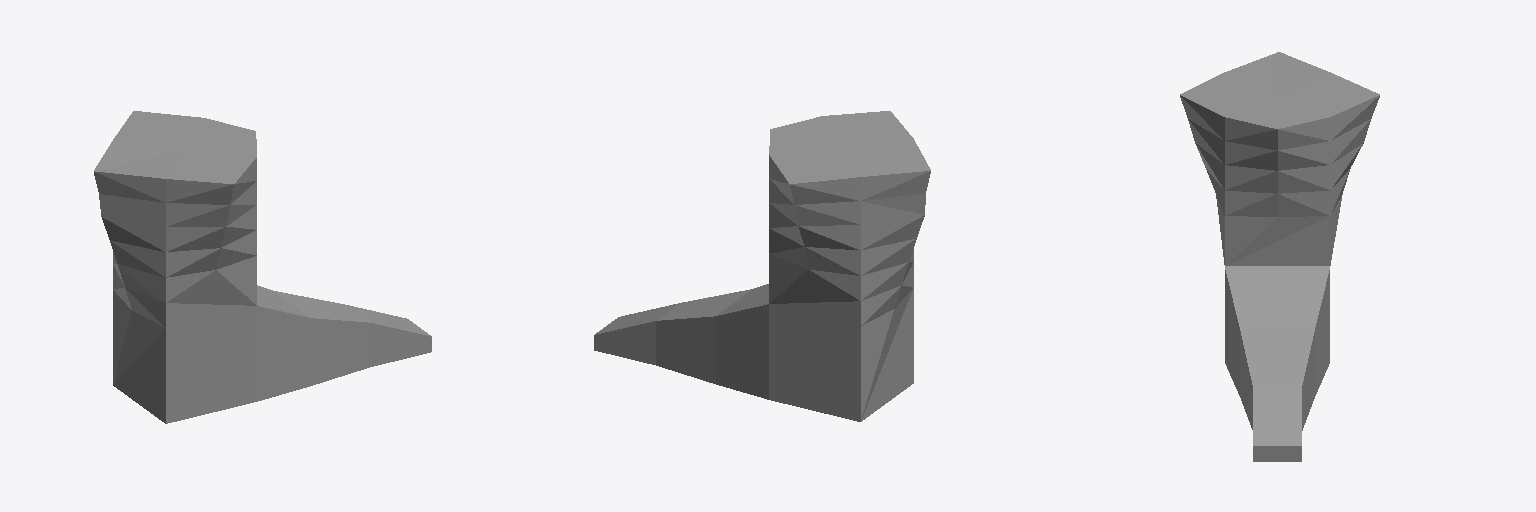
Rendered from zapato02.obj.
The picture shows the model from 3 angles: view 1: azimuth 30°, elevation 25°; view 2: azimuth 150°, elevation 25°; view 3: azimuth 270°, elevation 25°; orthographic projection.
Parts seen in each view (by area): view 1: Cube; view 2: Cube; view 3: Cube.
Part boxes in pixels (left/top/right/bottom): Cube: left=94, top=111, right=431, bottom=423; Cube: left=594, top=111, right=930, bottom=421; Cube: left=1180, top=52, right=1379, bottom=461.
Bounding box in the file's own units: 7.11 × 5.26 × 3.81.